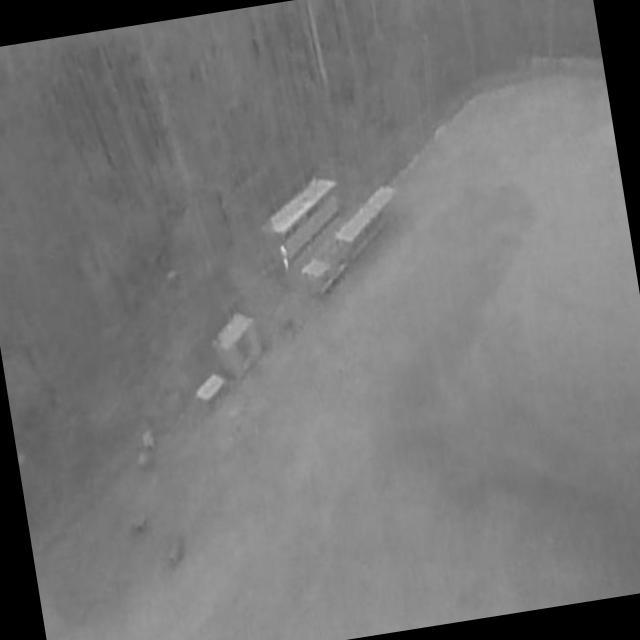person: (280, 245, 292, 272)
